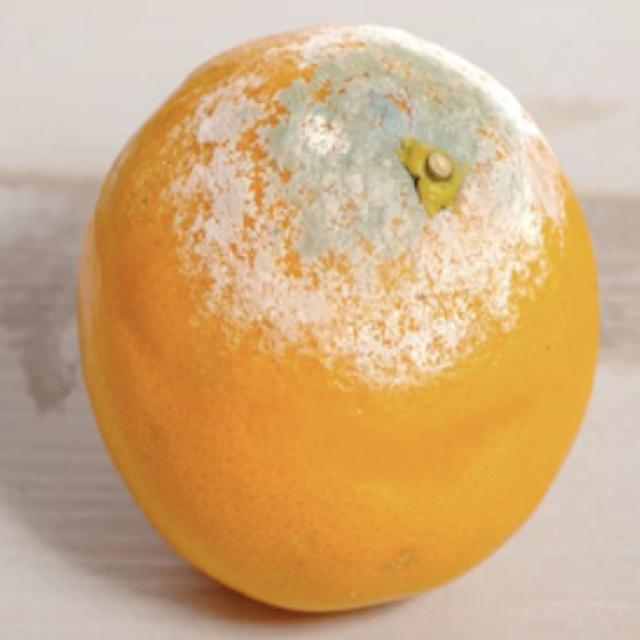sedikit-busuk: (78, 26, 597, 611)
